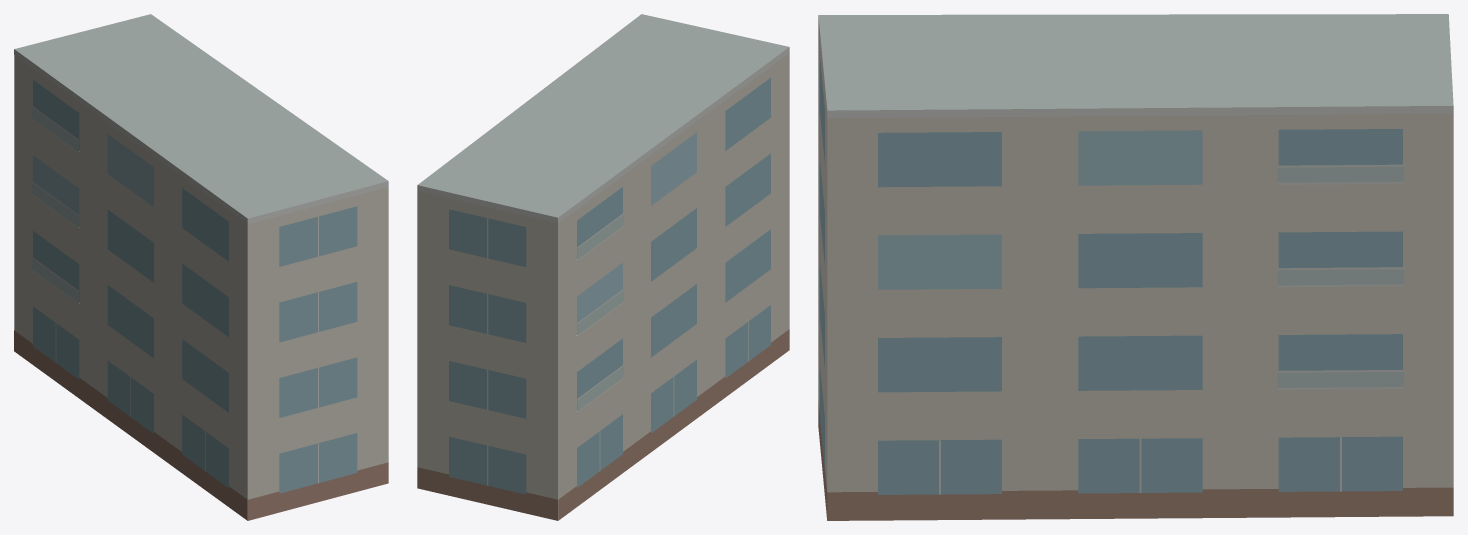
The model's file is survey-upis-32537076.glb.
The picture shows the model from 3 angles, left to right: view 1: azimuth 30°, elevation 25°; view 2: azimuth 150°, elevation 25°; view 3: azimuth 270°, elevation 25°; orthographic projection. The views are drawn at different scales.
Parts seen in each view (by area): view 1: survey-upis-32537076.tmp; view 2: survey-upis-32537076.tmp; view 3: survey-upis-32537076.tmp.
Boxes of the visible parts, left/top/right/bottom form: survey-upis-32537076.tmp: left=14, top=14, right=388, bottom=520; survey-upis-32537076.tmp: left=417, top=14, right=789, bottom=520; survey-upis-32537076.tmp: left=818, top=14, right=1453, bottom=520.
Size of the model in its own units: 6.49 by 12.8 by 17.97.
